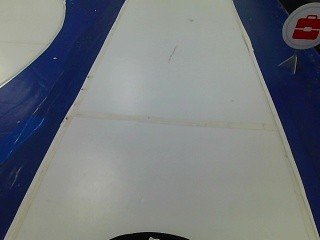company: (287, 8, 318, 45)
